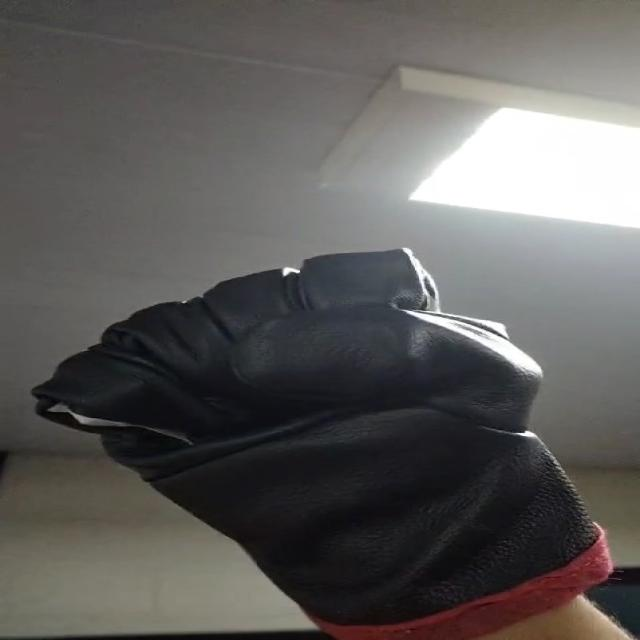Gloves: (33, 250, 640, 636)
